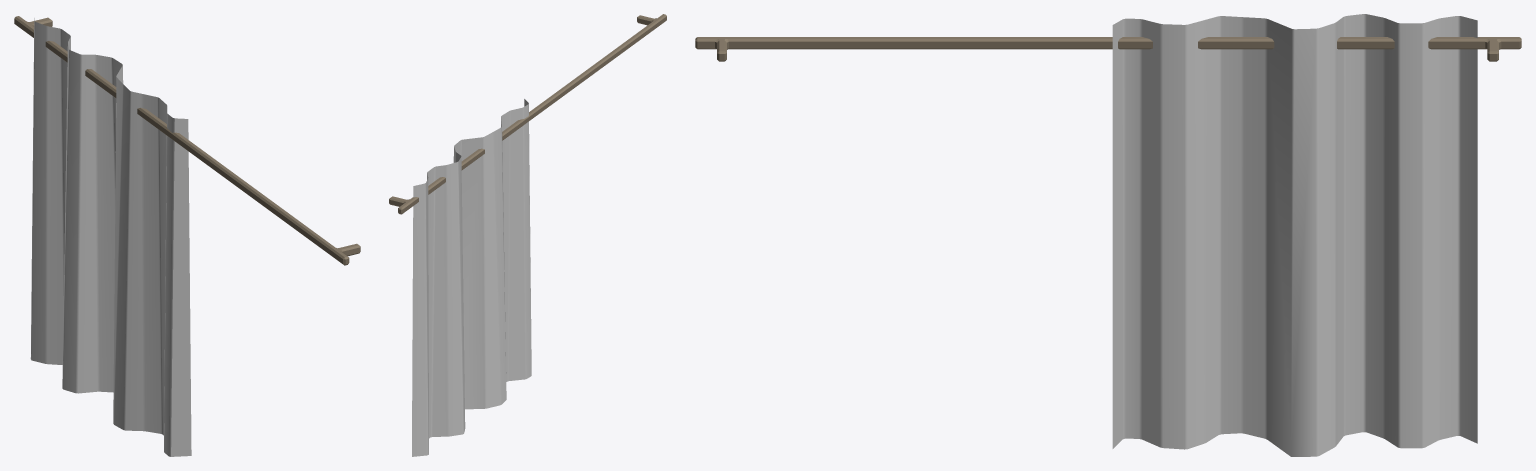
The model's file is curtain.fbx.
3 renders of one model, left to right at view 1: azimuth 30°, elevation 25°; view 2: azimuth 150°, elevation 25°; view 3: azimuth 270°, elevation 25°, orthographic. The views are drawn at different scales.
Parts seen in each view (by area): view 1: nurbsToPoly1, pCube26; view 2: nurbsToPoly1, pCube26; view 3: nurbsToPoly1, pCube26.
Part boxes in pixels (x1=…): nurbsToPoly1: x1=30, y1=18, x2=191, y2=456; pCube26: x1=14, y1=16, x2=360, y2=265; nurbsToPoly1: x1=412, y1=99, x2=531, y2=456; pCube26: x1=389, y1=14, x2=666, y2=214; nurbsToPoly1: x1=1112, y1=14, x2=1477, y2=456; pCube26: x1=695, y1=37, x2=1521, y2=61.
Bounding box in the file's own units: 0.2514 × 2.01 × 3.57.
